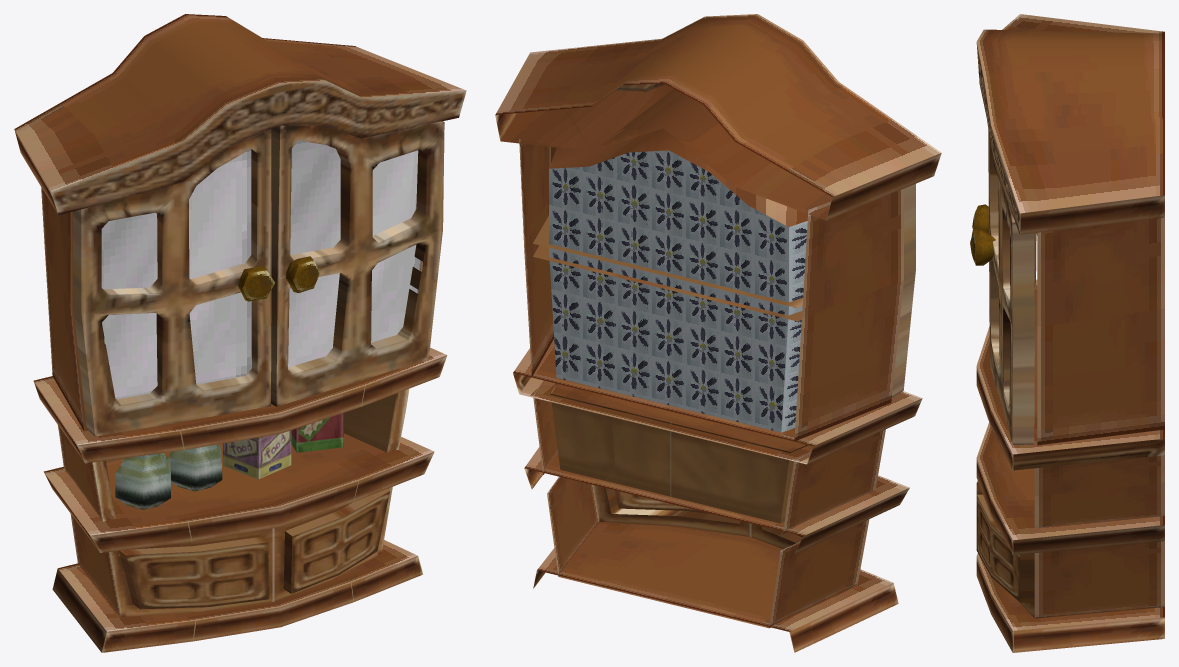
3 renders of one model, left to right at view 1: azimuth 30°, elevation 25°; view 2: azimuth 150°, elevation 25°; view 3: azimuth 270°, elevation 25°, orthographic.
Visible parts, largest first — view 1: kitchen_pantry_Mesh; view 2: kitchen_pantry_Mesh; view 3: kitchen_pantry_Mesh.
Boxes of the visible parts, x1,y1,x2,y2 form: kitchen_pantry_Mesh: (14, 14, 466, 652); kitchen_pantry_Mesh: (495, 14, 941, 652); kitchen_pantry_Mesh: (970, 14, 1164, 652).
Bounding box in the file's own units: 206 × 258 × 85.15.
Materials: 11 (11 with a texture image).
